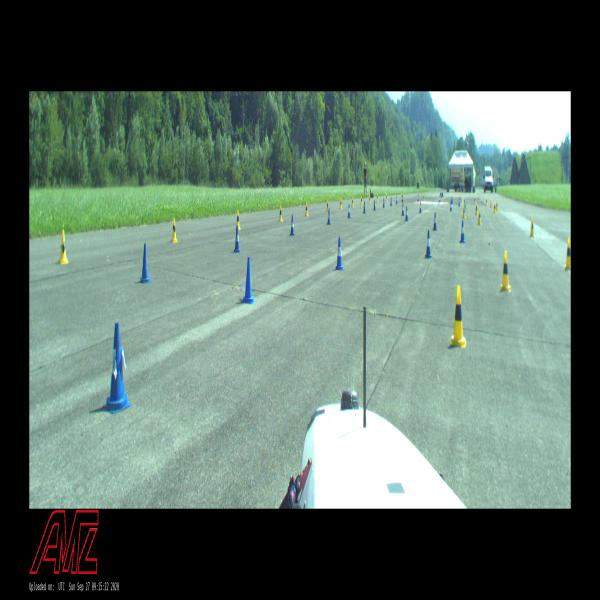blue_cone: (106, 323, 131, 413), (243, 257, 254, 302), (140, 243, 151, 283), (336, 237, 344, 270), (425, 230, 432, 258), (234, 226, 240, 252), (460, 220, 466, 242), (290, 214, 295, 236), (433, 212, 437, 230), (327, 208, 331, 224), (405, 206, 409, 221), (347, 203, 351, 218), (363, 201, 366, 213), (419, 202, 422, 213), (373, 200, 376, 210), (382, 198, 385, 208), (450, 200, 452, 212), (402, 203, 404, 215), (390, 196, 392, 206), (464, 199, 466, 209), (458, 197, 460, 206), (396, 196, 398, 204), (439, 195, 441, 202), (418, 194, 419, 202), (402, 195, 403, 202)
yellow_cone: (450, 286, 466, 347), (500, 251, 510, 290), (58, 230, 69, 264), (565, 238, 571, 270), (171, 218, 178, 242), (236, 210, 241, 230), (530, 218, 534, 237), (279, 205, 283, 222), (478, 209, 482, 225), (462, 205, 466, 218), (475, 203, 478, 214), (360, 195, 363, 204), (306, 203, 308, 216), (368, 195, 371, 203), (326, 200, 328, 212), (340, 198, 342, 209), (494, 202, 496, 213), (352, 197, 354, 207), (490, 199, 492, 208), (496, 201, 498, 210), (485, 197, 487, 205), (376, 194, 378, 202), (474, 196, 476, 204), (386, 193, 388, 201), (423, 194, 424, 200)
